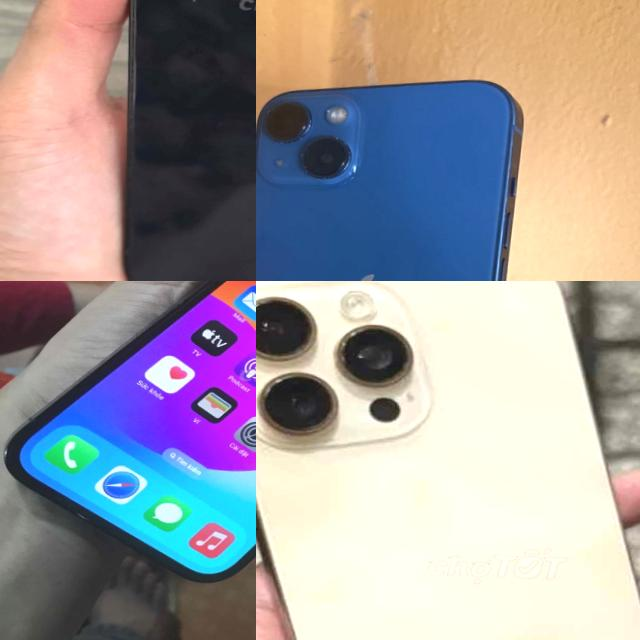gen_12_13: (0, 281, 256, 597), (256, 69, 526, 281), (105, 0, 256, 281)
gen_16: (256, 281, 640, 640)
